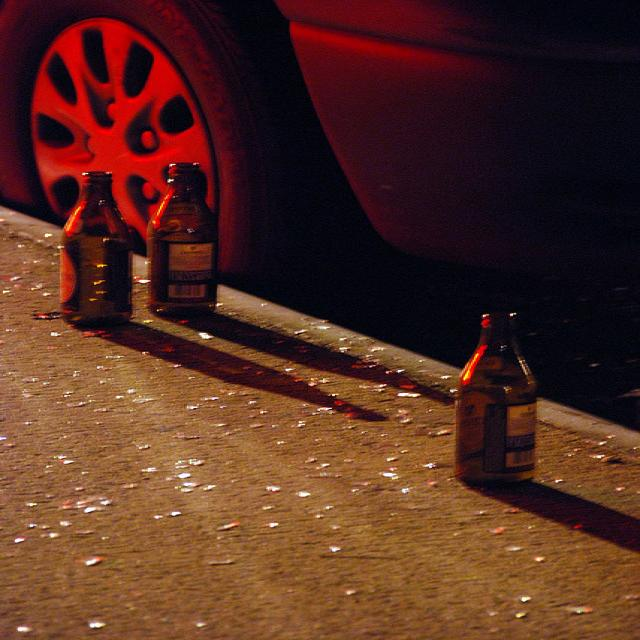Bottle: (434, 292, 569, 500), (34, 154, 162, 333), (150, 153, 249, 328)
